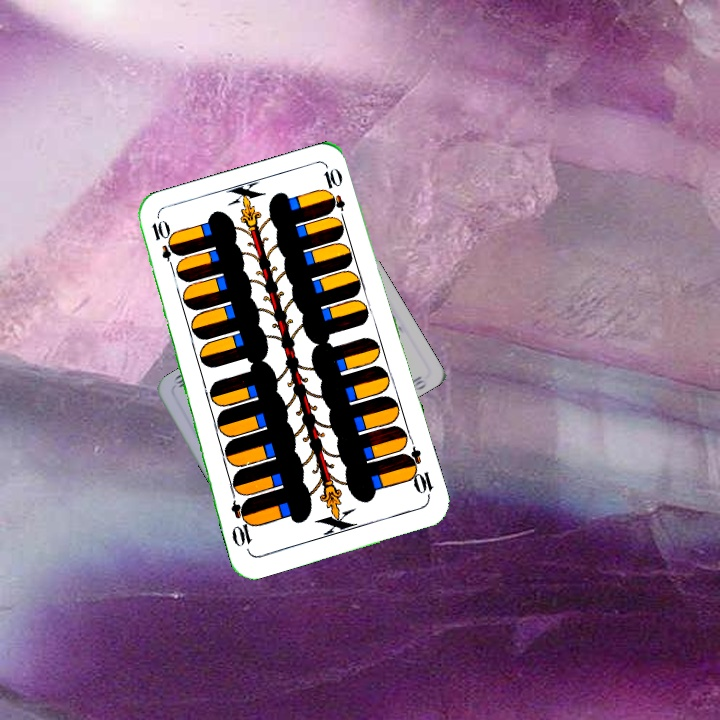E10: (399, 443, 437, 501), (147, 216, 179, 275)
